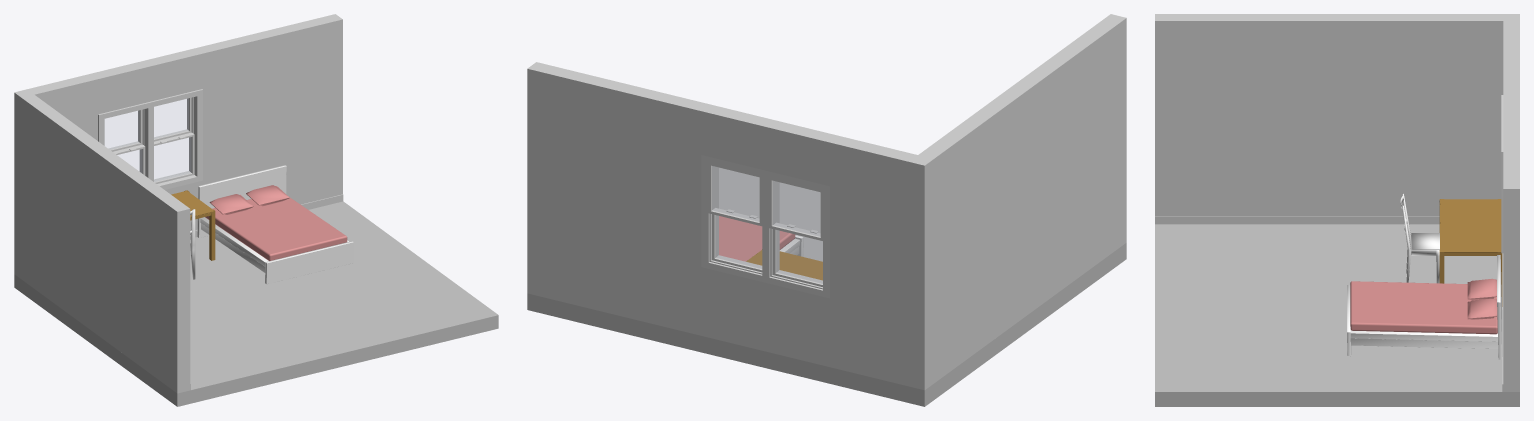
File: L14_W16_furniture2_circulation2.glb
3 renders of one model, left to right at view 1: azimuth 30°, elevation 25°; view 2: azimuth 150°, elevation 25°; view 3: azimuth 270°, elevation 25°, orthographic. The views are drawn at different scales.
Bounding box in the file's own units: 200 × 116 × 176.
